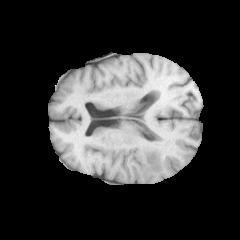glioma: (142, 141, 167, 174)
